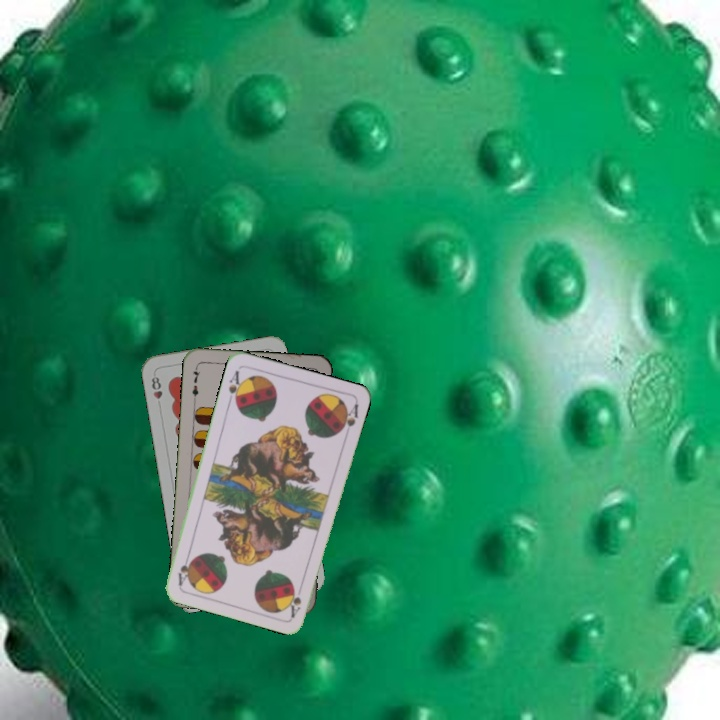E7: (188, 363, 203, 403)
H8: (148, 370, 165, 410)
SA: (224, 366, 246, 407), (286, 580, 306, 620)
